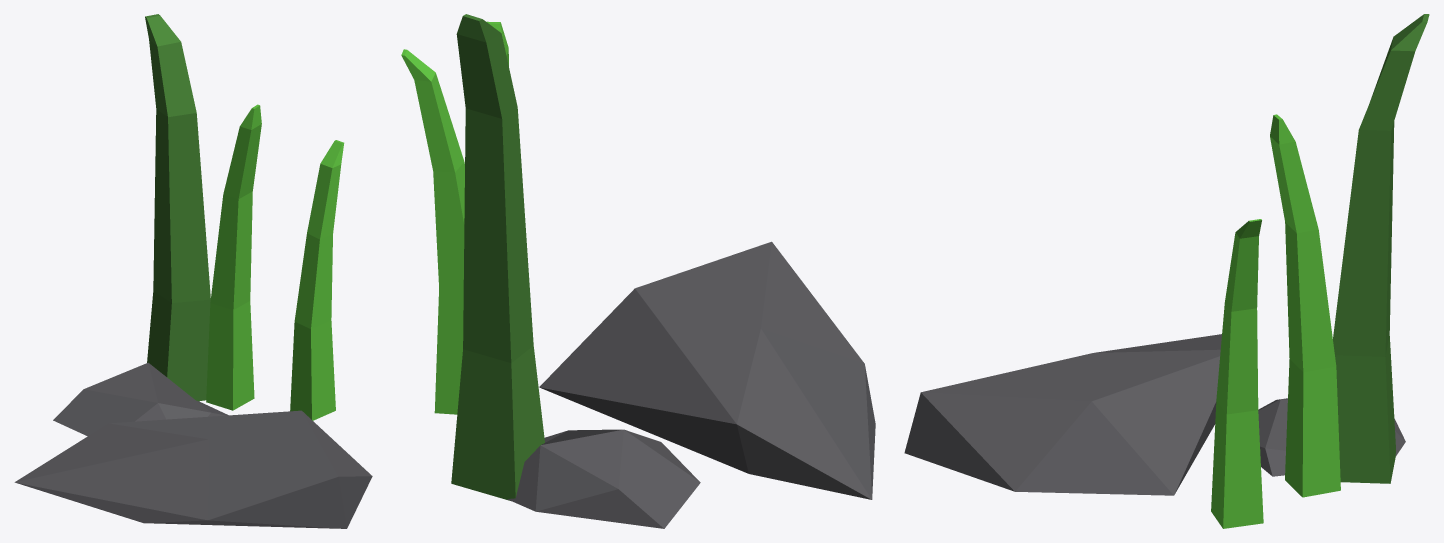
The model's file is grass_6.fbx.
3 views of the same model, side by side, from view 1: azimuth 30°, elevation 25°; view 2: azimuth 150°, elevation 25°; view 3: azimuth 270°, elevation 25° (orthographic). The views are drawn at different scales.
Visible parts, largest first — view 1: grass_6; view 2: grass_6; view 3: grass_6.
Part boxes in pixels (left/top/right/bottom): grass_6: left=14, top=14, right=372, bottom=528; grass_6: left=401, top=14, right=875, bottom=528; grass_6: left=904, top=14, right=1429, bottom=528.
Size of the model in its own units: 125 by 130 by 136.
